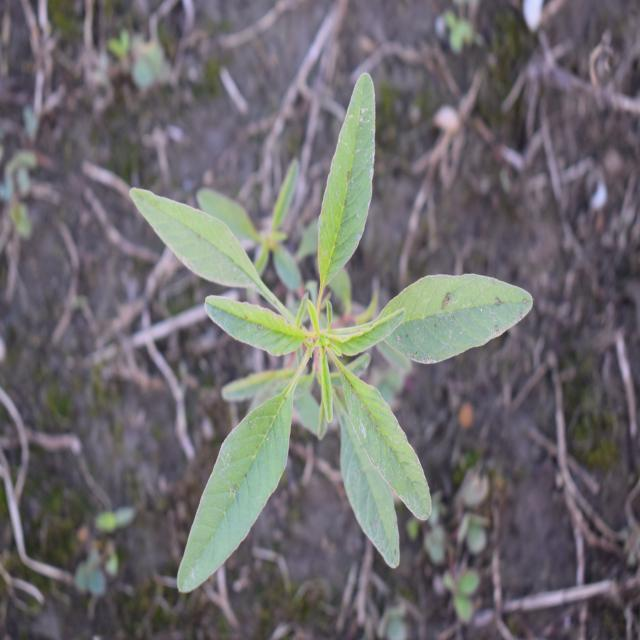Waterhemp: (127, 70, 534, 596)
